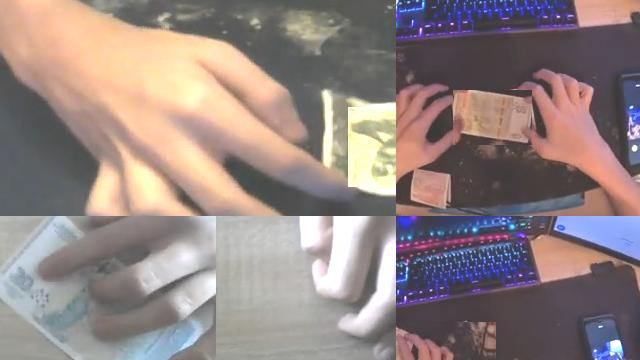10leva: (348, 113, 396, 187)
50leva: (453, 90, 532, 145)
